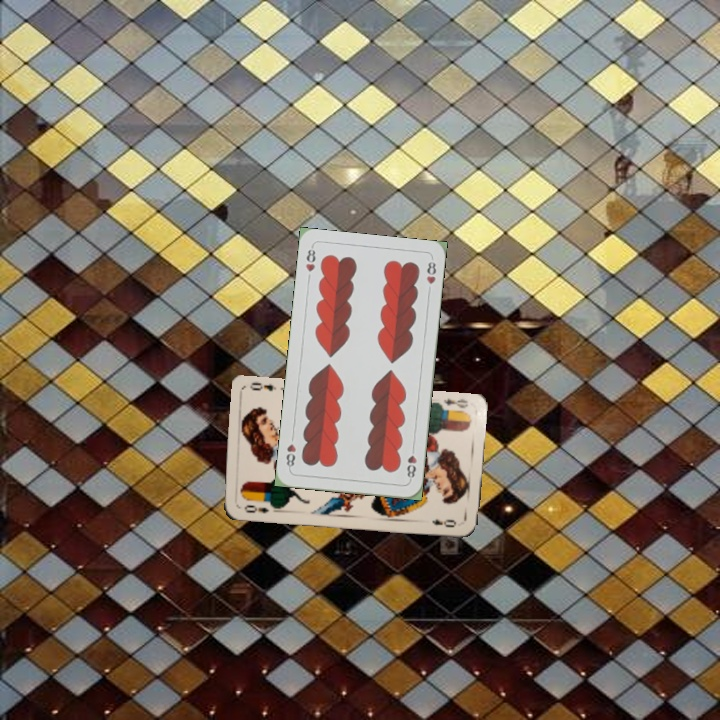EO: (440, 394, 470, 411), (240, 501, 271, 516)
H8: (403, 443, 419, 483), (302, 243, 318, 283)
